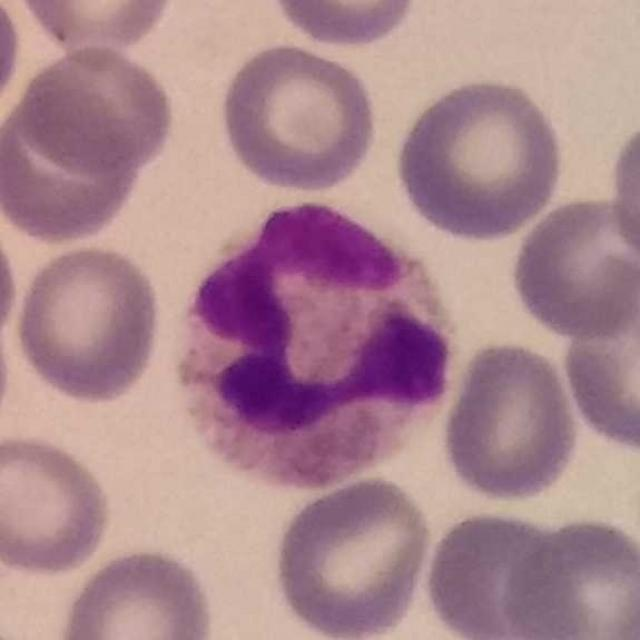Neutrophil: (162, 184, 466, 505)
RBC: (388, 72, 569, 244), (267, 472, 436, 640), (9, 240, 167, 407), (215, 40, 382, 195), (438, 336, 584, 505), (0, 78, 146, 242), (12, 42, 180, 178), (418, 505, 576, 640), (506, 191, 639, 343), (496, 512, 640, 640), (0, 428, 117, 579), (55, 543, 219, 640), (557, 273, 640, 458), (12, 0, 182, 58), (265, 0, 423, 51), (603, 110, 640, 275), (0, 0, 24, 123)
